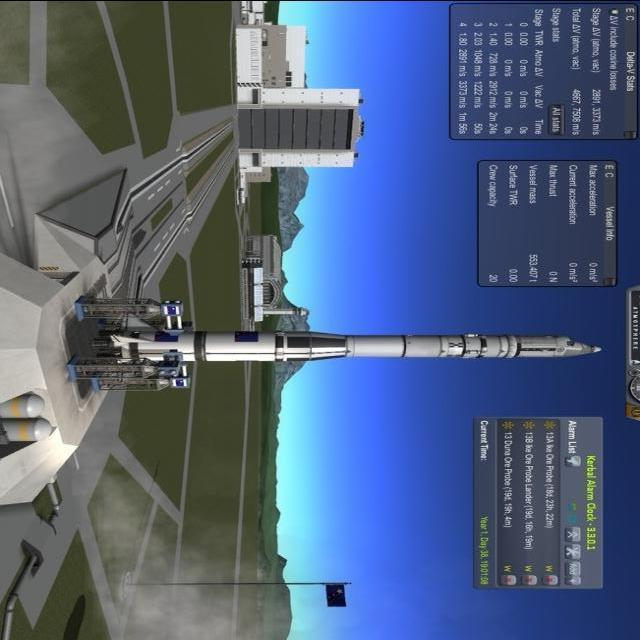Missile: (93, 320, 611, 370)
